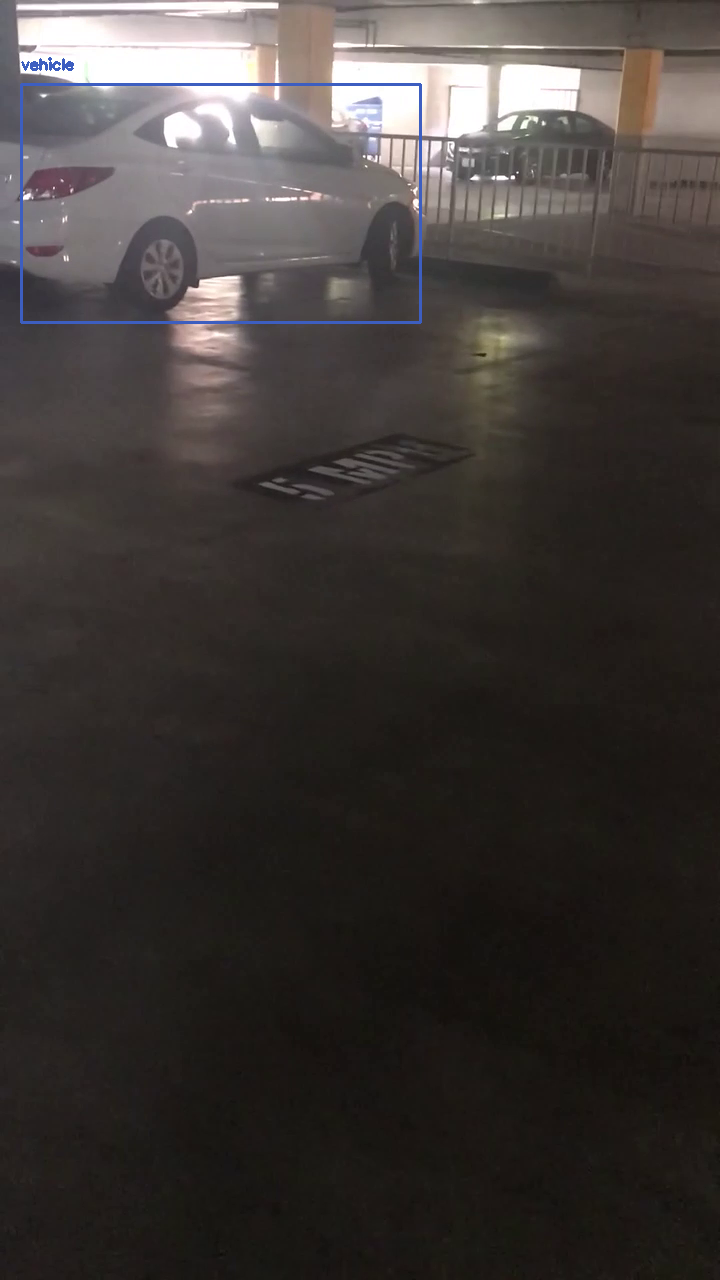vehicle: (21, 84, 420, 322)
